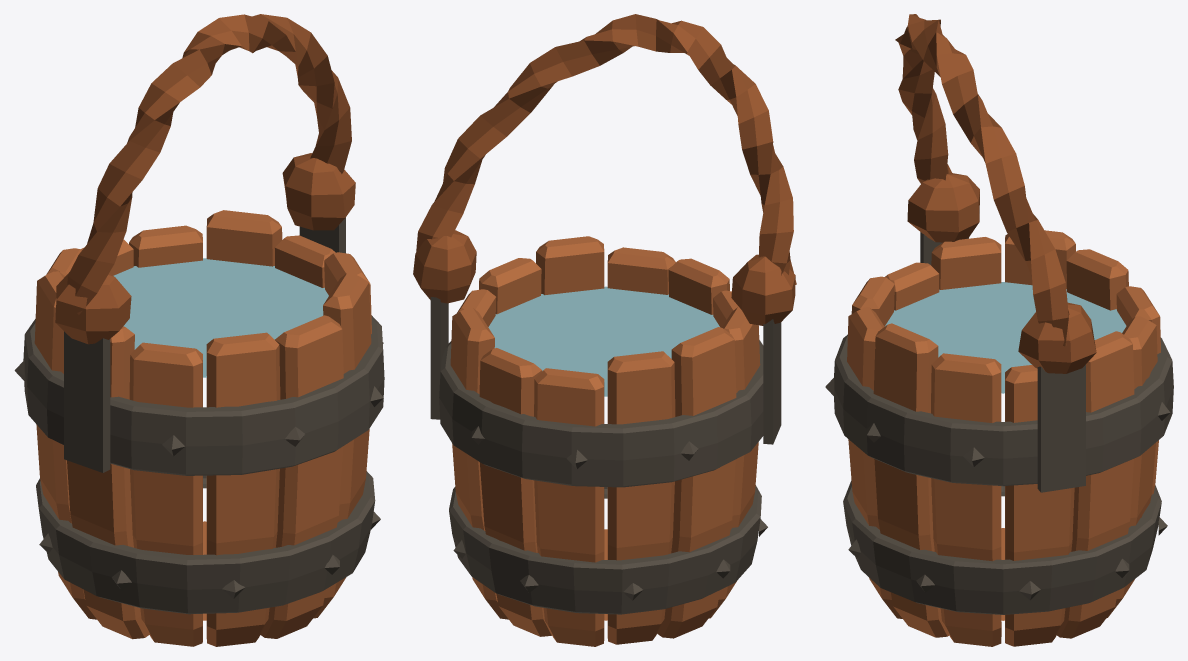
File: water-bucket-full.glb
3 renders of one model, left to right at view 1: azimuth 30°, elevation 25°; view 2: azimuth 150°, elevation 25°; view 3: azimuth 270°, elevation 25°, orthographic. The views are drawn at different scales.
Visible parts, largest first — view 1: staves, hoops, rope_handle, water, rope_knots, ears, rivets; view 2: staves, hoops, rope_handle, water, rope_knots, ears, rivets; view 3: staves, hoops, rope_handle, water, rope_knots, ears, rivets.
Part boxes in pixels (x1,y1,x2,y2): staves: (34,210,371,646); hoops: (23,315,384,614); rope_handle: (67,14,351,315); water: (113,258,328,377); rope_knots: (55,153,355,344); ears: (64,217,345,472); rivets: (14,342,383,598); staves: (450,236,760,646); hoops: (439,340,763,614); rope_handle: (416,14,796,284); water: (488,286,719,396); rope_knots: (413,230,795,325); ears: (430,297,781,444); rivets: (453,426,767,600); staves: (847,230,1160,646); hoops: (834,334,1173,614); rope_handle: (895,14,1069,346); water: (885,282,1126,393); rope_knots: (907,172,1096,373); ears: (920,232,1085,492); rivets: (825,378,1170,600).
Bounding box in the file's own units: 0.4405 × 0.7328 × 0.4073.
